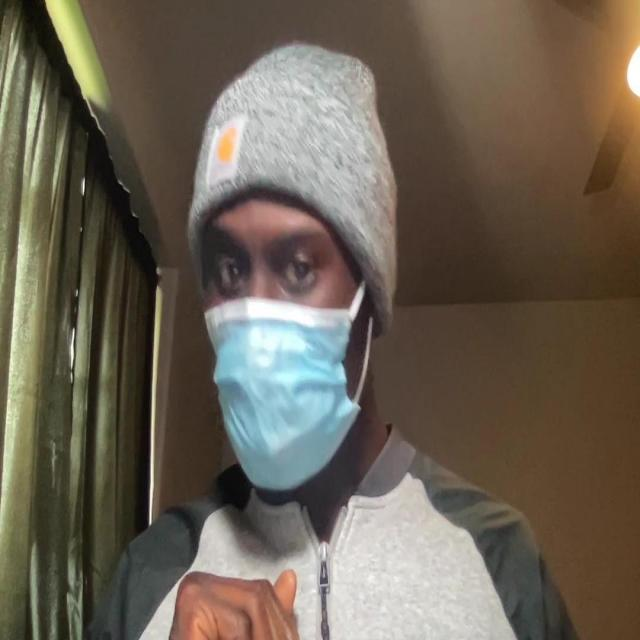face: (192, 148, 380, 492)
